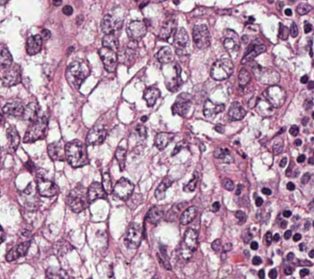nucleus: (23, 115, 47, 142), (66, 61, 89, 89), (65, 140, 87, 167), (67, 185, 88, 212), (19, 182, 38, 210), (210, 58, 233, 80), (124, 222, 142, 248), (263, 85, 285, 106), (6, 241, 29, 261), (99, 47, 117, 72), (36, 176, 58, 196), (113, 177, 133, 199), (192, 24, 210, 48), (223, 29, 239, 56), (171, 93, 190, 115), (242, 44, 265, 62), (118, 41, 135, 65), (86, 125, 106, 145), (87, 182, 107, 202), (1, 65, 20, 86), (174, 27, 188, 54), (154, 177, 171, 199), (2, 100, 24, 116), (47, 141, 65, 160), (115, 139, 126, 170), (203, 100, 224, 116), (6, 126, 19, 151), (154, 132, 173, 149), (143, 86, 159, 106), (183, 228, 197, 250), (166, 203, 184, 220), (179, 206, 196, 224), (26, 35, 42, 54), (22, 102, 38, 121), (228, 102, 245, 119), (146, 206, 163, 223), (158, 246, 170, 269), (156, 47, 172, 63), (102, 33, 117, 50), (46, 267, 69, 278), (102, 171, 113, 193), (238, 68, 250, 86), (1, 47, 11, 68), (214, 148, 229, 161), (184, 176, 197, 191), (171, 141, 184, 155), (135, 125, 146, 139), (273, 139, 283, 154), (222, 178, 233, 190), (235, 210, 245, 222), (264, 231, 272, 245), (25, 160, 34, 172), (211, 239, 220, 251), (41, 29, 50, 39), (249, 97, 258, 107), (211, 201, 219, 211), (252, 256, 261, 264), (223, 243, 231, 251), (255, 197, 262, 206), (269, 269, 276, 278), (215, 125, 223, 132), (0, 227, 4, 241), (250, 241, 257, 249), (236, 184, 241, 194), (262, 188, 270, 194), (273, 233, 279, 241), (258, 269, 264, 277), (141, 116, 146, 121)
